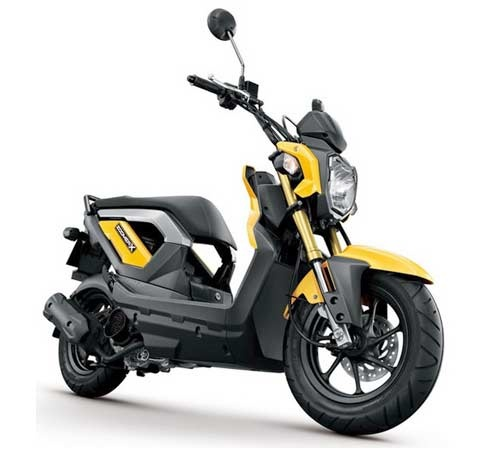motorcycle: (43, 8, 444, 438)
